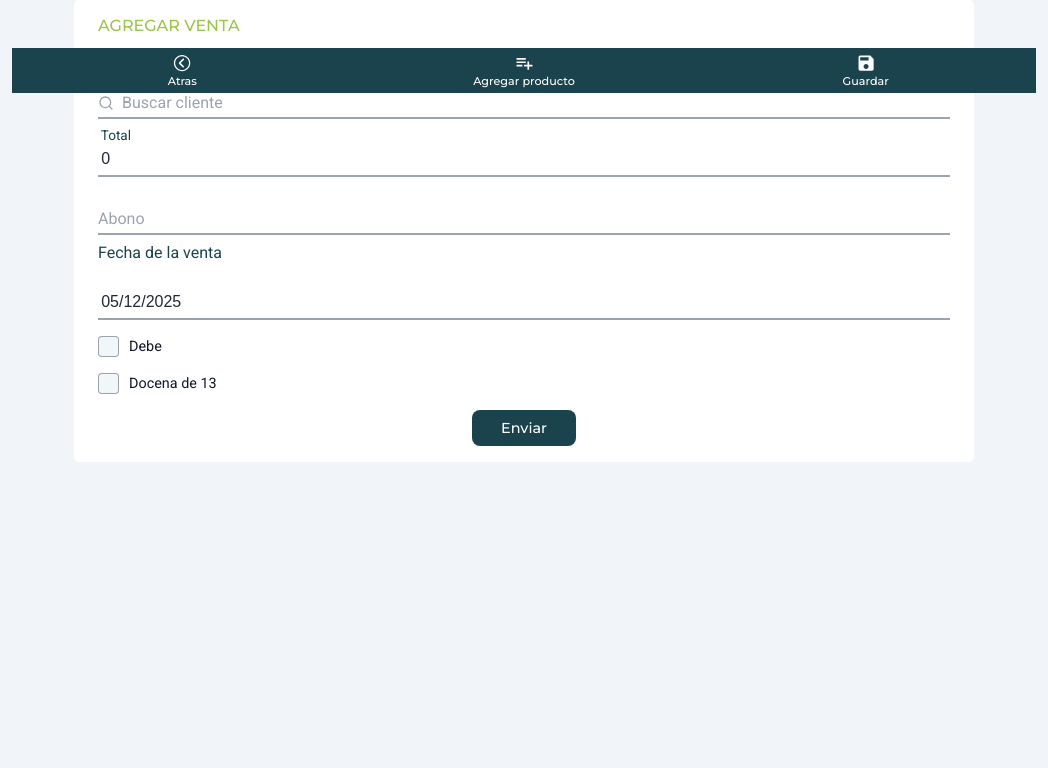
Test: AddEditSalePage › Add Sale Mode › calculates total price when quantity changes
The width and height of the screenshot is (1048, 768).
Click the button "Agregar producto": (524, 70) top-left (354, 48), bottom-right (694, 93)
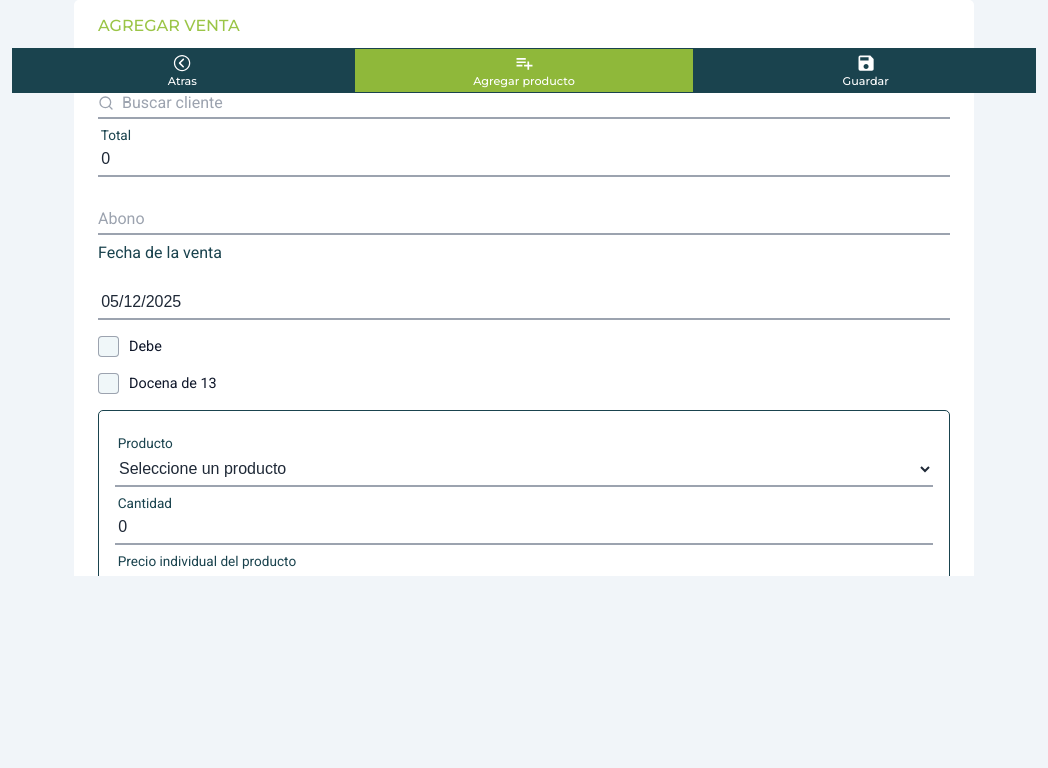
Select a product
Select "Wolf Snack Mix Bolsa 500" in the dropdown labelled "Producto": (524, 469) top-left (115, 451), bottom-right (933, 487)
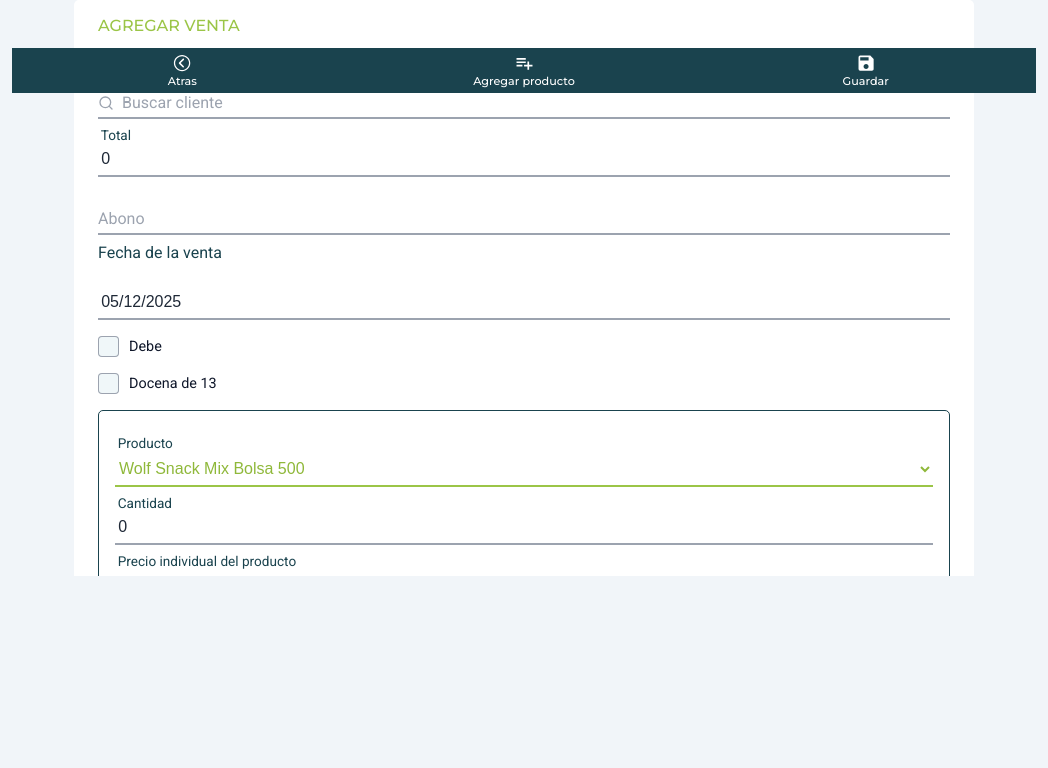
Set quantity
In the number field labelled "Cantidad": (524, 528) top-left (115, 511), bottom-right (933, 545), type "2"
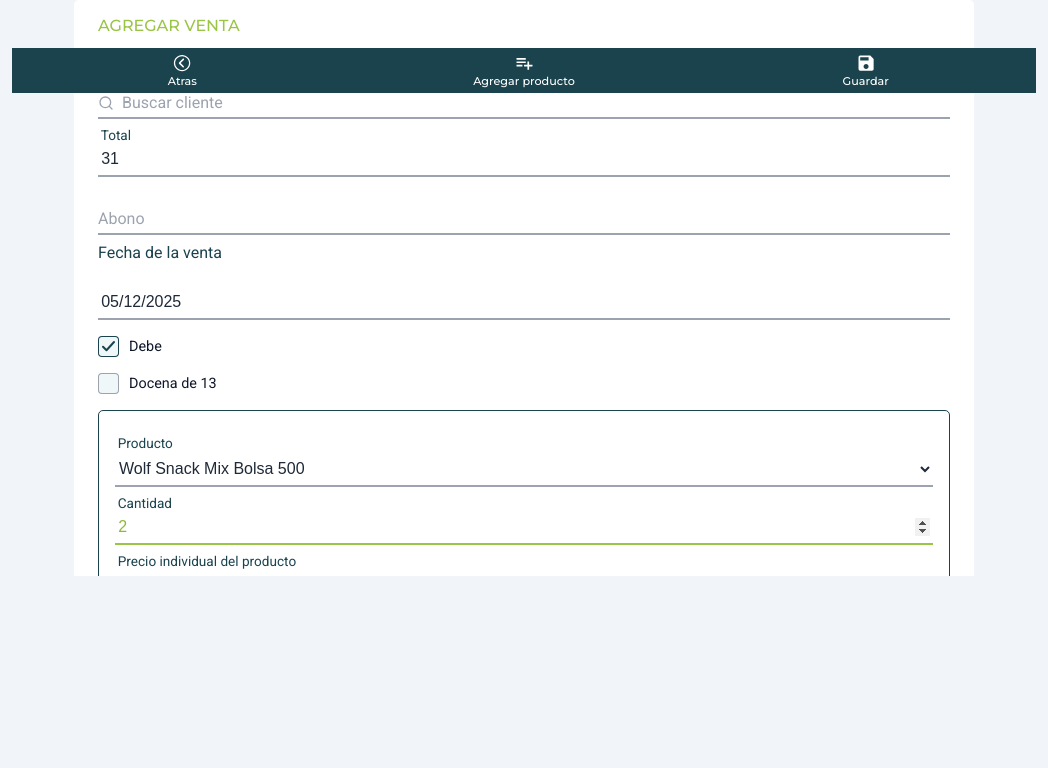
Expected: the number field labelled "Total" holds "31", top-left (98, 143), bottom-right (950, 177)
